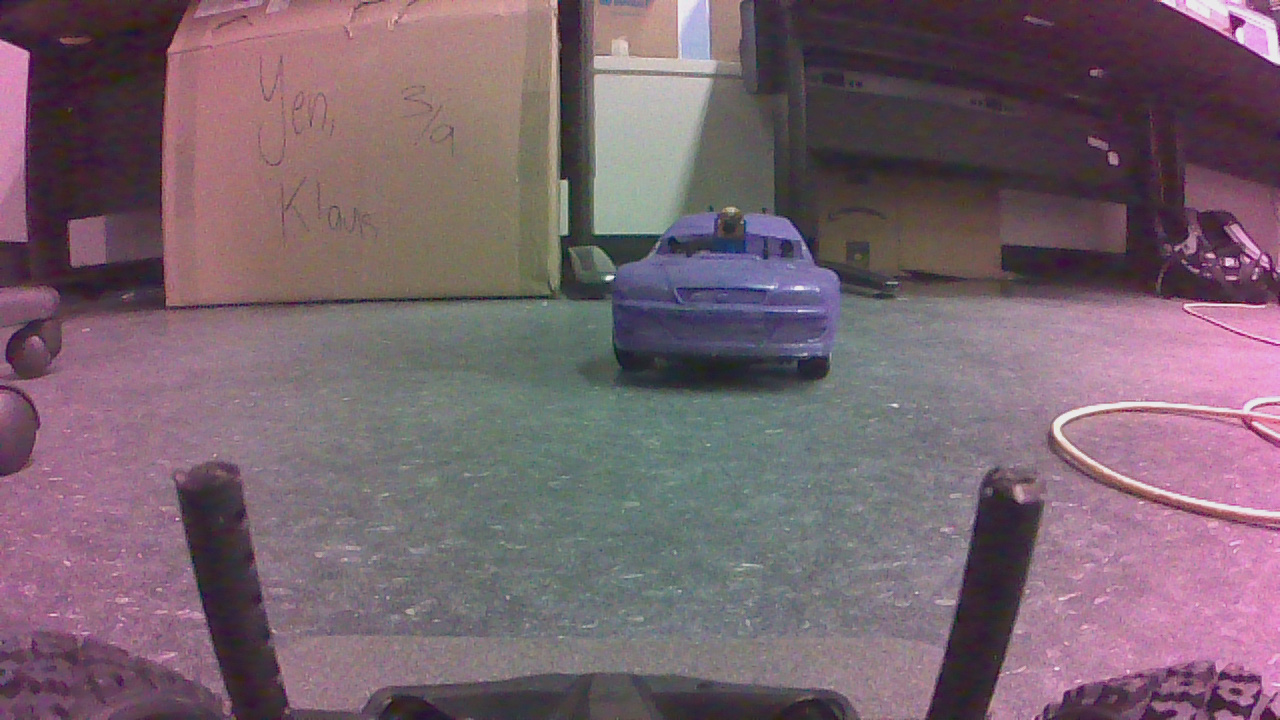opponent: (616, 209, 845, 384)
